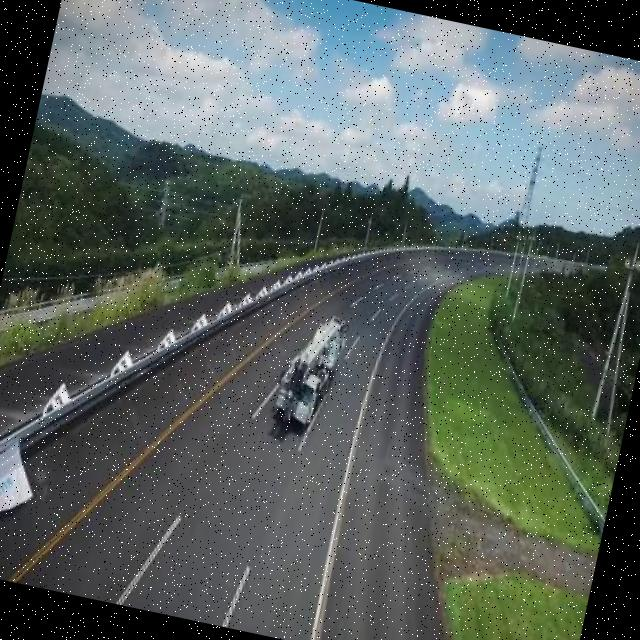Mobile Crane: (268, 304, 350, 441)
